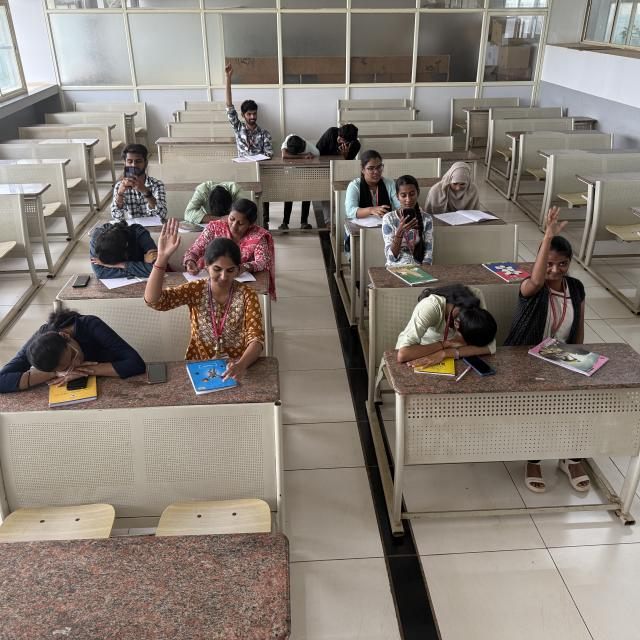Hand Rising: (137, 221, 252, 356), (514, 204, 590, 334), (220, 58, 276, 158)
Reading: (430, 158, 499, 223)
Sleeping: (4, 307, 148, 388), (399, 276, 502, 356), (83, 215, 161, 283), (184, 174, 247, 220), (278, 129, 324, 170)
Using Phone: (105, 140, 173, 220), (382, 174, 433, 253), (317, 121, 364, 160)
Writing: (177, 198, 269, 281)
